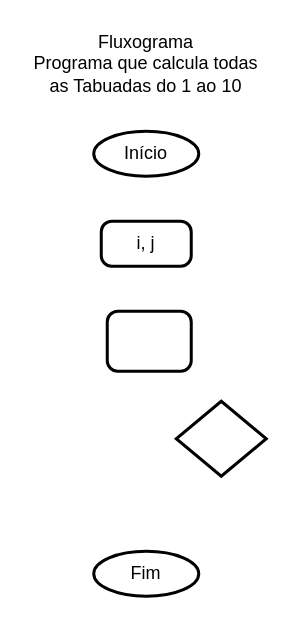
This 293x623 diagram has some shape labels left out. Here are the shapes that lost their labels. From the top down, the centre of each, then its label:
At point 148,340: "i = 1 j = 1".
At point 220,438: "i <= 10".
